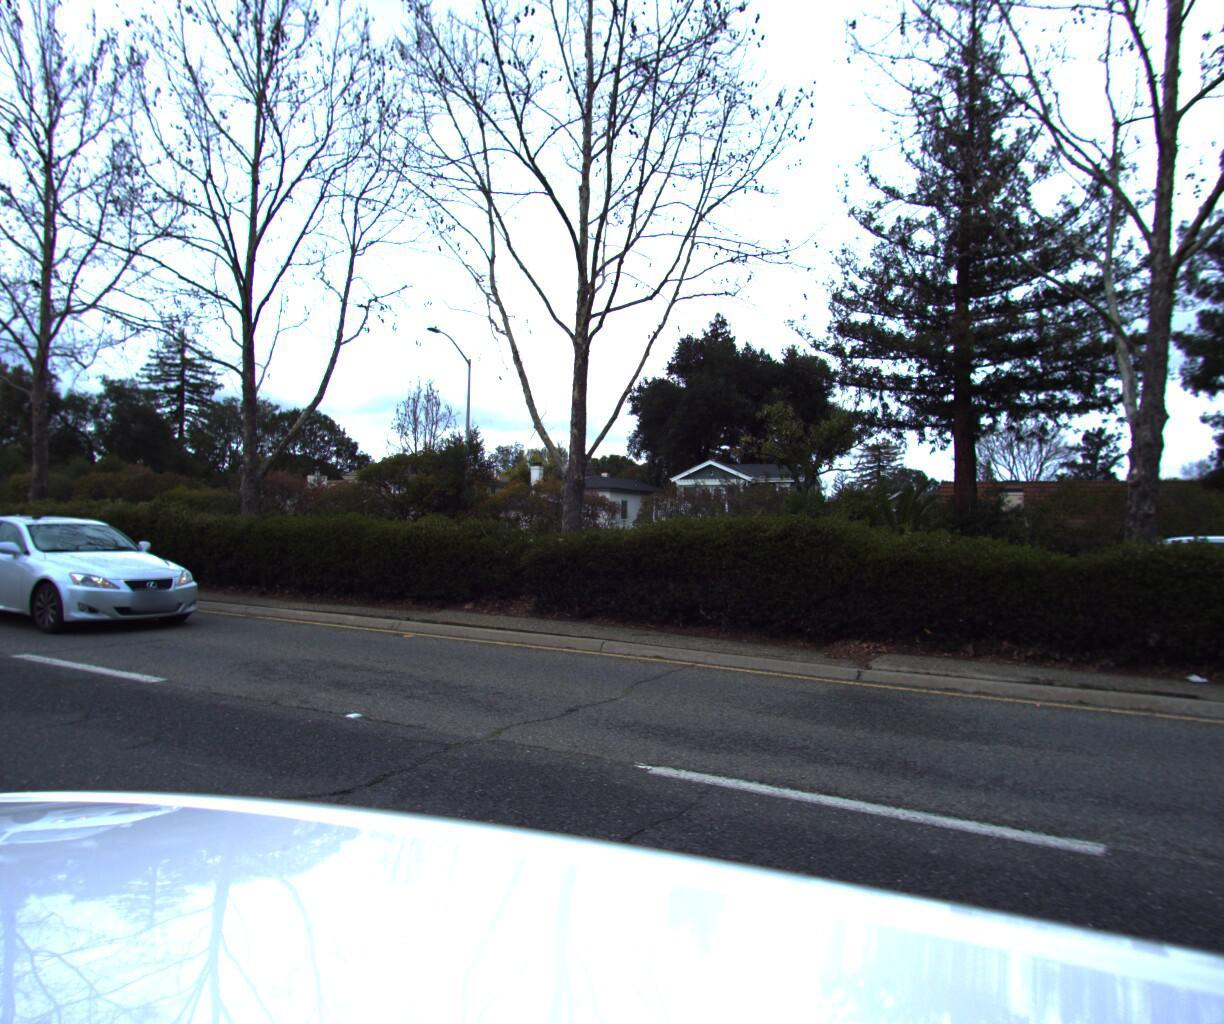car: (0, 505, 220, 642), (1094, 541, 1224, 629)
